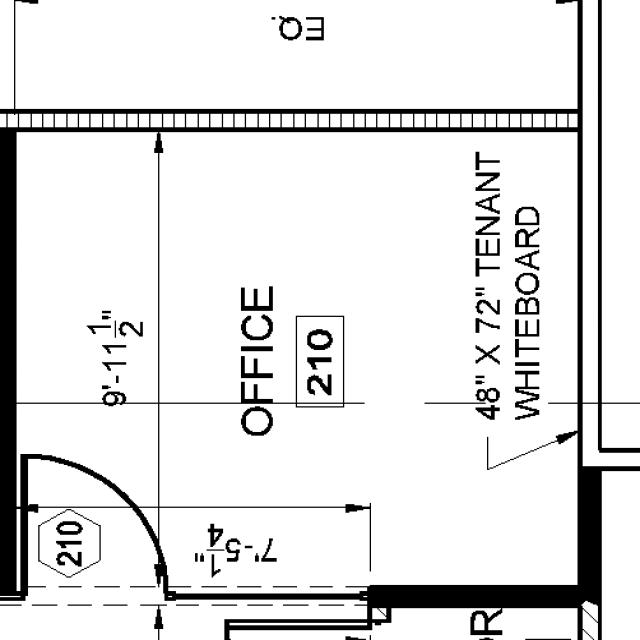Doors: (18, 445, 181, 609)
